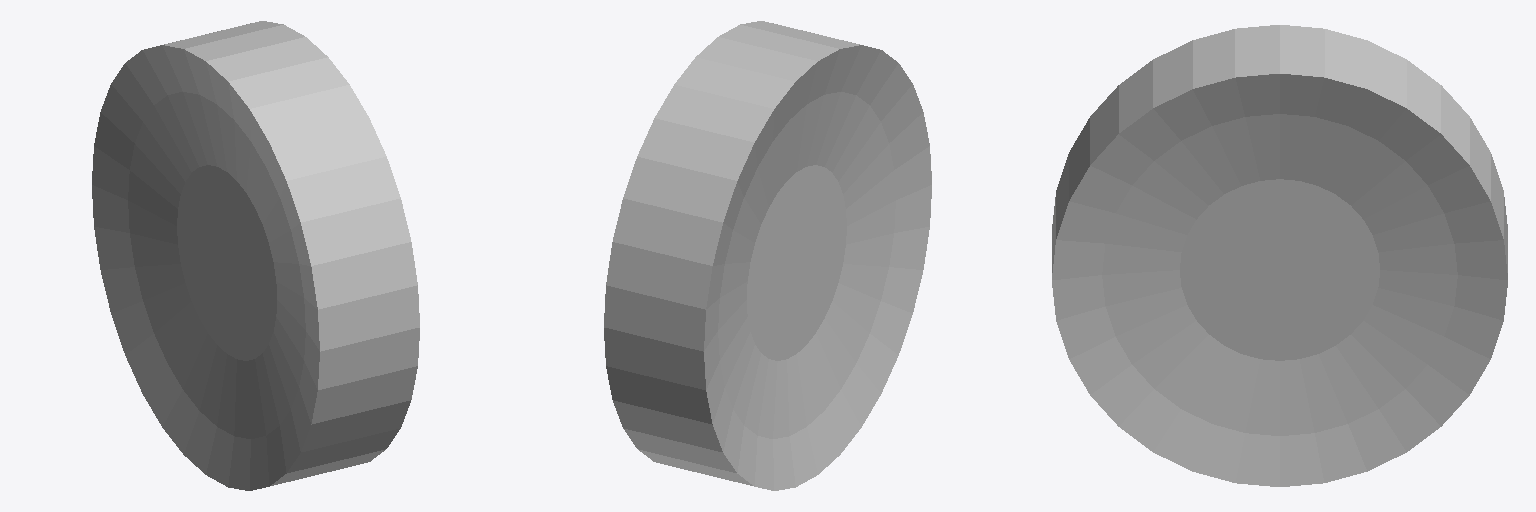
File: planeFrontHubcap.obj
3 views of the same model, side by side, from view 1: azimuth 30°, elevation 25°; view 2: azimuth 150°, elevation 25°; view 3: azimuth 270°, elevation 25° (orthographic).
Parts seen in each view (by area): view 1: Cylinder.073_Cylinder.063; view 2: Cylinder.073_Cylinder.063; view 3: Cylinder.073_Cylinder.063.
Part boxes in pixels (x1,y1,x2,y2): Cylinder.073_Cylinder.063: (92, 21, 419, 490); Cylinder.073_Cylinder.063: (604, 21, 931, 490); Cylinder.073_Cylinder.063: (1052, 25, 1507, 486).
Size of the model in its own units: 18.93 by 74.7 by 74.7.